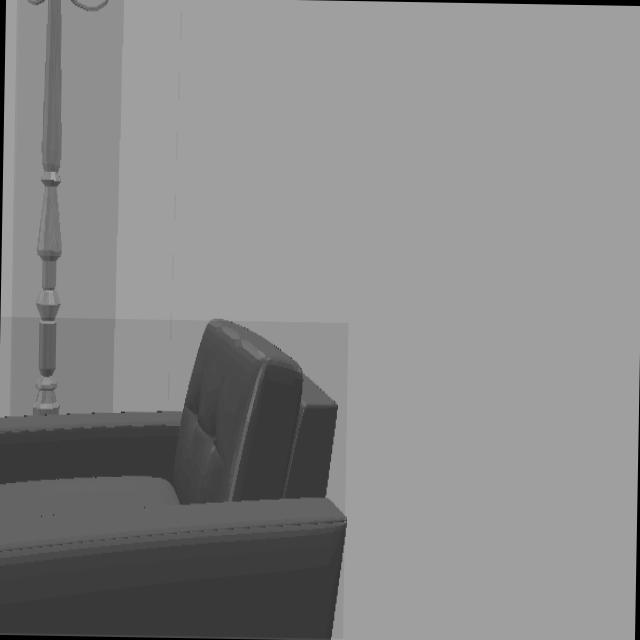sofa: (0, 320, 345, 638)
